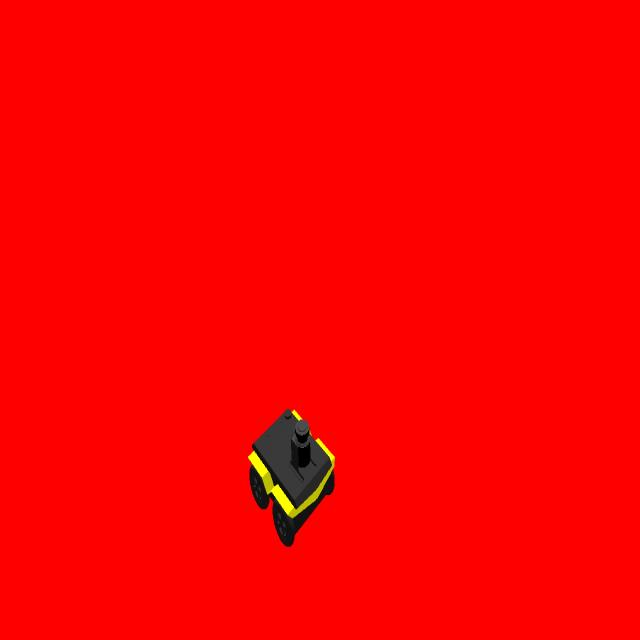jackal: (249, 406, 337, 548)
